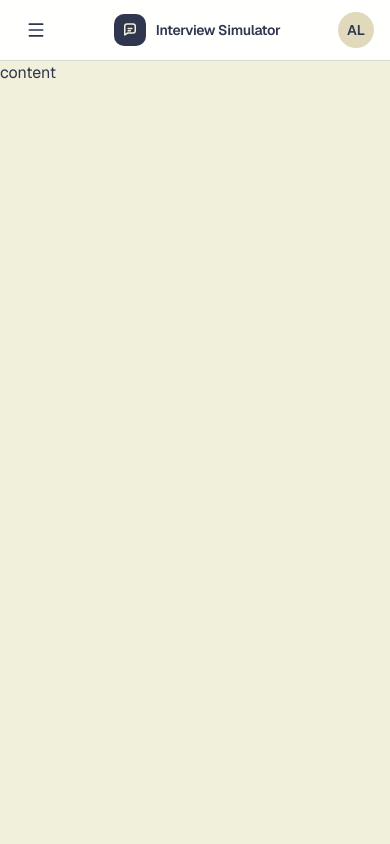
Test: navigation › renders the shell with aria-current on the active link and a working mobile drawer
Click the button named "Open navigation" at (36, 30), box [16,10,56,50]
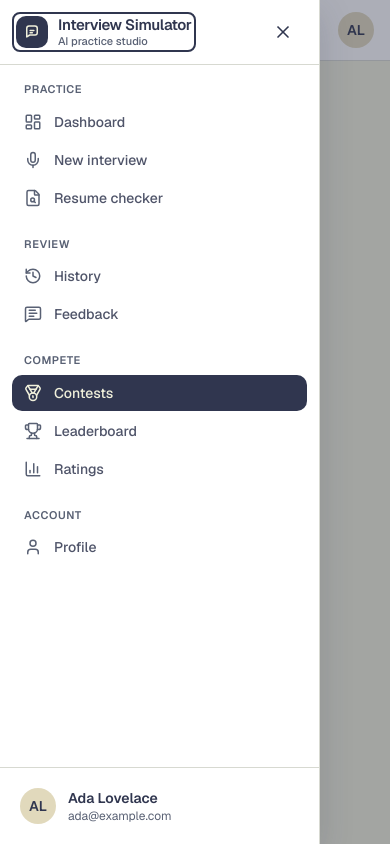
Expected: the dialog named "Navigation" is shown
Press Escape
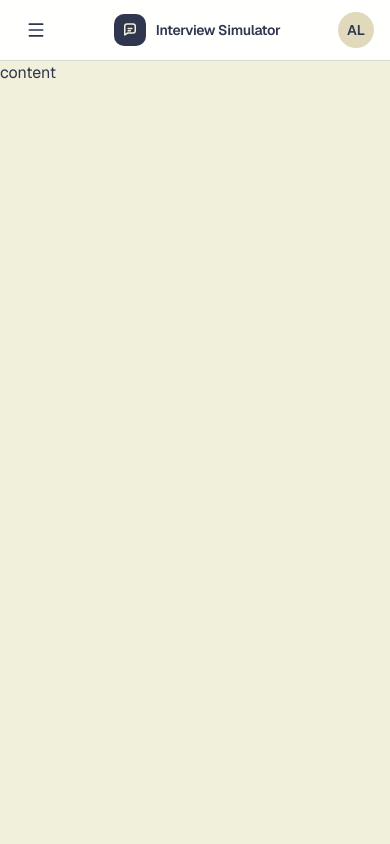
Expected: the button "Navigation" is gone
